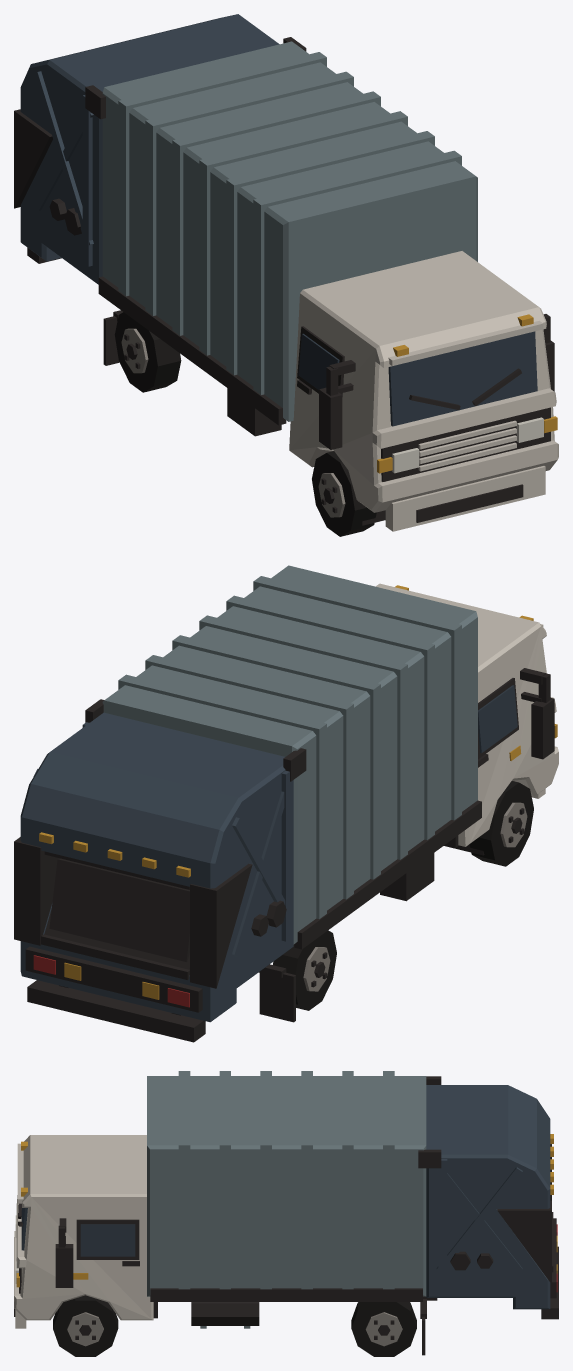
Rendered from garbage-truck-a7ffbf.glb.
3 views of the same model, one above another, from view 1: azimuth 30°, elevation 25°; view 2: azimuth 150°, elevation 25°; view 3: azimuth 270°, elevation 25° (orthographic). The views are drawn at different scales.
Visible parts, largest first — view 1: garbage-truck, wheel-rr, wheel-fr; view 2: garbage-truck, wheel-fr, wheel-rr; view 3: garbage-truck, wheel-fl, wheel-rl.
Boxes of the visible parts, x1,y1,x2,y2 form: garbage-truck: (14, 14, 558, 531); wheel-rr: (114, 312, 181, 392); wheel-fr: (312, 451, 376, 536); garbage-truck: (14, 565, 558, 1042); wheel-fr: (469, 781, 533, 866); wheel-rr: (273, 930, 336, 1010); garbage-truck: (14, 1071, 558, 1355); wheel-fl: (53, 1295, 118, 1356); wheel-rl: (351, 1302, 416, 1356).
Bounding box in the file's own units: 2.88 × 3.49 × 7.99.
